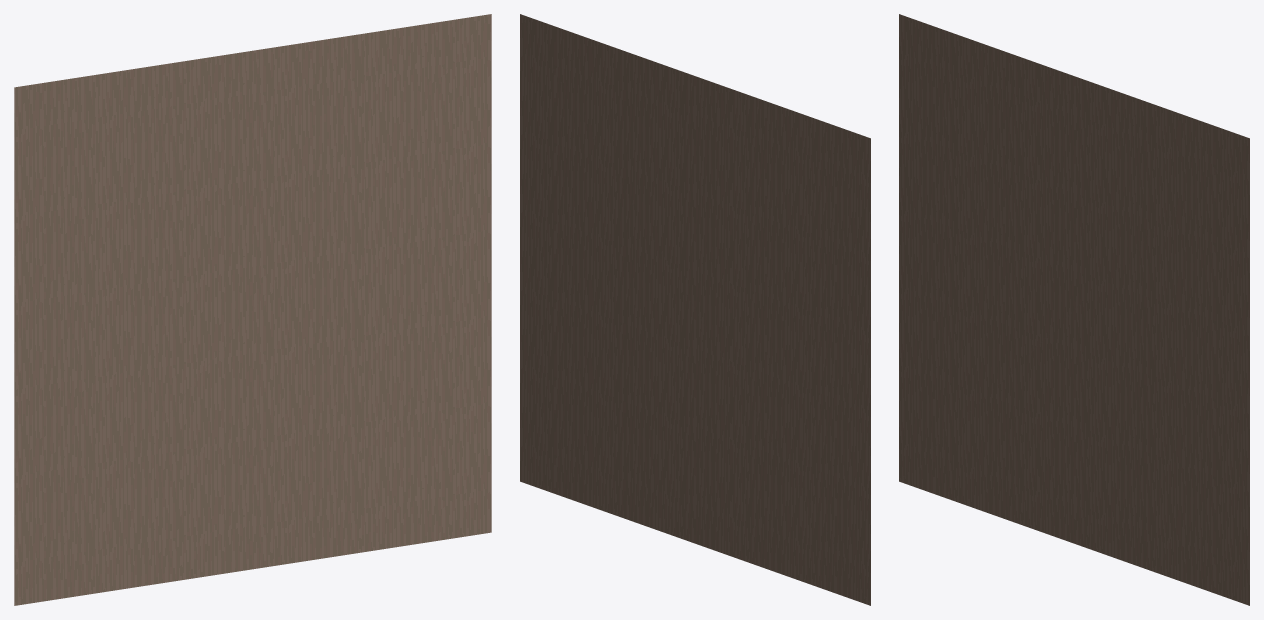
Rendered from kd_stage_135d18_4_85_bounded_piece_0.glb.
The picture shows the model from 3 angles, left to right: view 1: azimuth 30°, elevation 25°; view 2: azimuth 150°, elevation 25°; view 3: azimuth 330°, elevation 25°; orthographic projection. The views are drawn at different scales.
Visible parts, largest first — view 1: kd_stage_135d18_4_85_bounded_piece_0; view 2: kd_stage_135d18_4_85_bounded_piece_0; view 3: kd_stage_135d18_4_85_bounded_piece_0.
Part boxes in pixels (bbox=[...]): kd_stage_135d18_4_85_bounded_piece_0: bbox=[14, 14, 491, 605]; kd_stage_135d18_4_85_bounded_piece_0: bbox=[520, 14, 870, 605]; kd_stage_135d18_4_85_bounded_piece_0: bbox=[899, 14, 1249, 605].
Bounding box in the file's own units: 0.5426 × 0.6208 × 0.0957.
1 material, 1 textured.
